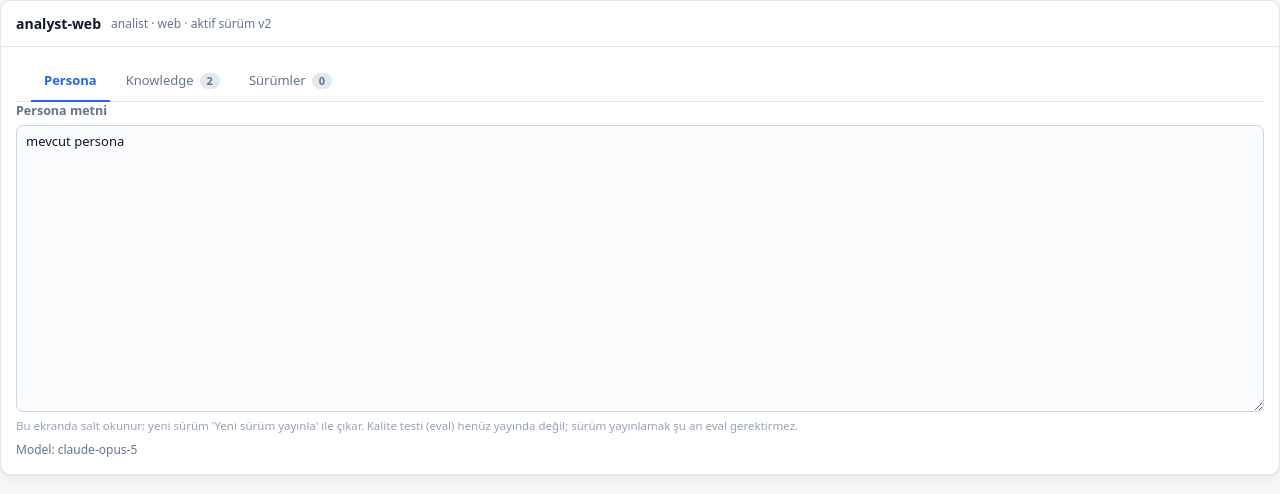
Test case: variant detail — knowledge tab, targeted guidance › hides the upload button and actions from a viewer (write is admin/tech-lead)
Click the tab "Knowledge 2". click: (173, 82)
box: [113,62,233,102]
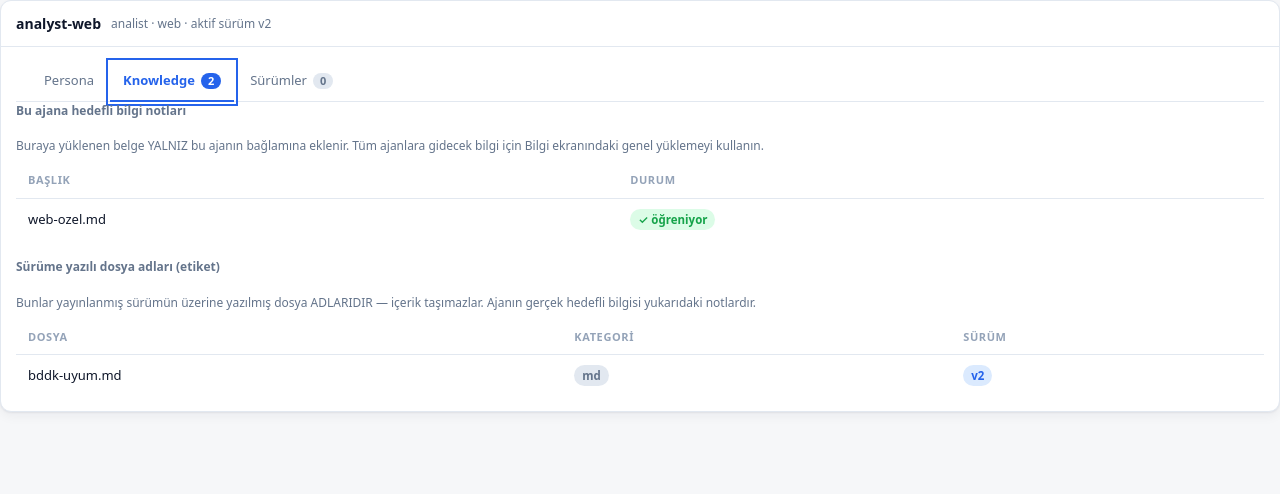
Expected: the text "web-ozel.md" is shown, [16,198,618,240]
